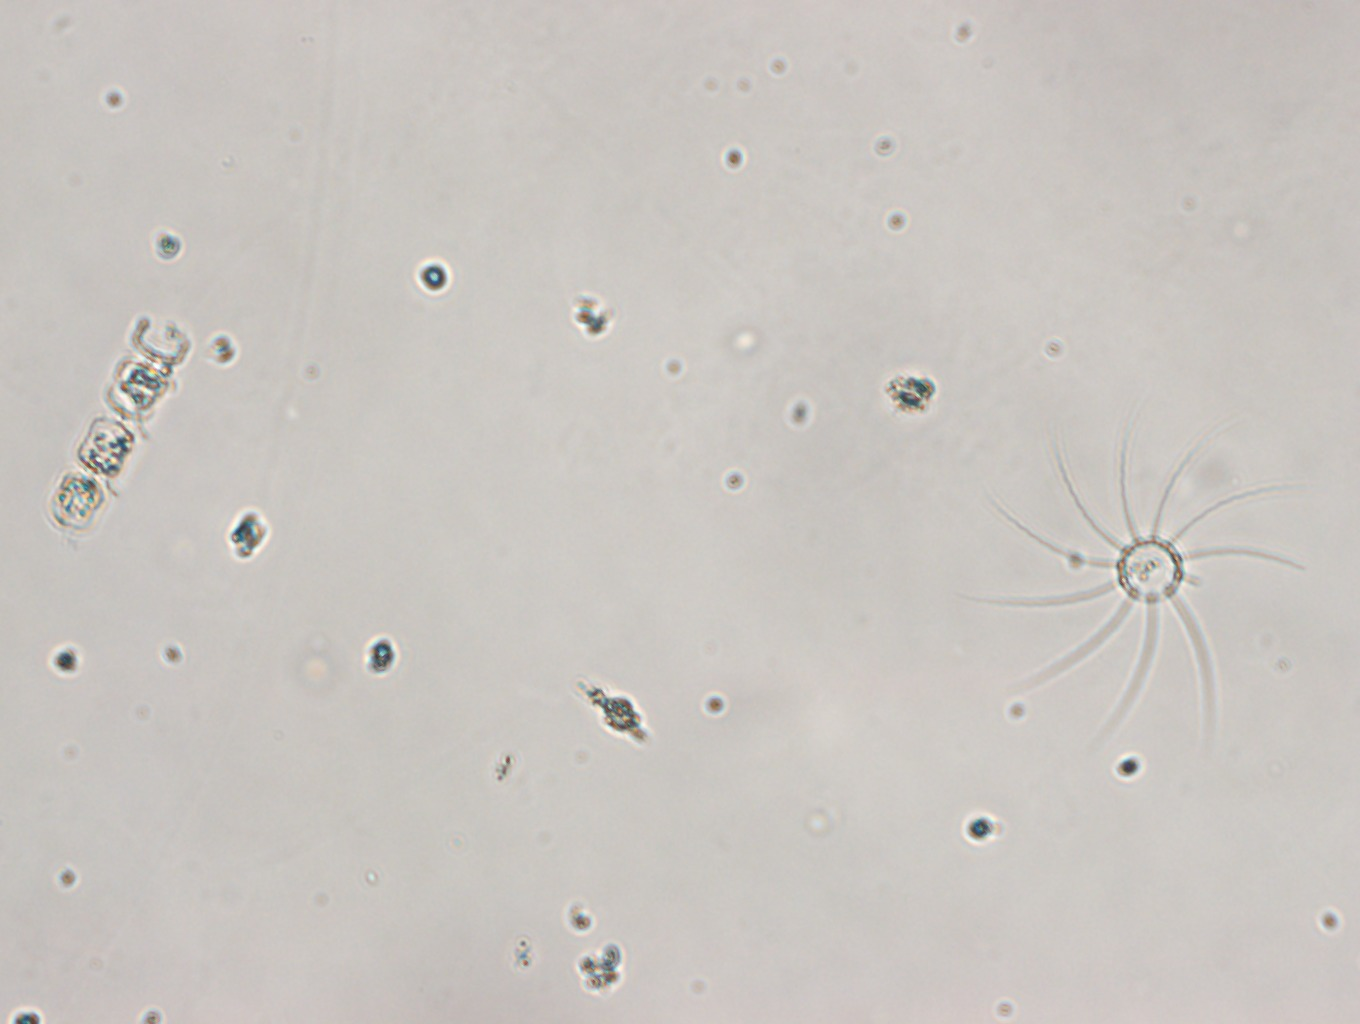bacteriastrum: (988, 436, 1301, 756)
